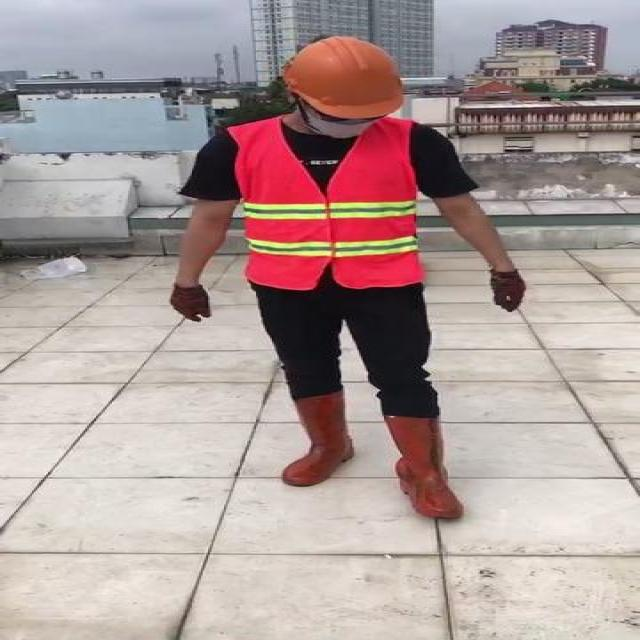boots: (380, 410, 466, 519), (283, 390, 352, 488)
hand_glove: (170, 282, 212, 323), (486, 271, 526, 312)
head_helmet: (276, 32, 412, 122)
person: (162, 32, 540, 529)
vest: (231, 117, 425, 287)
